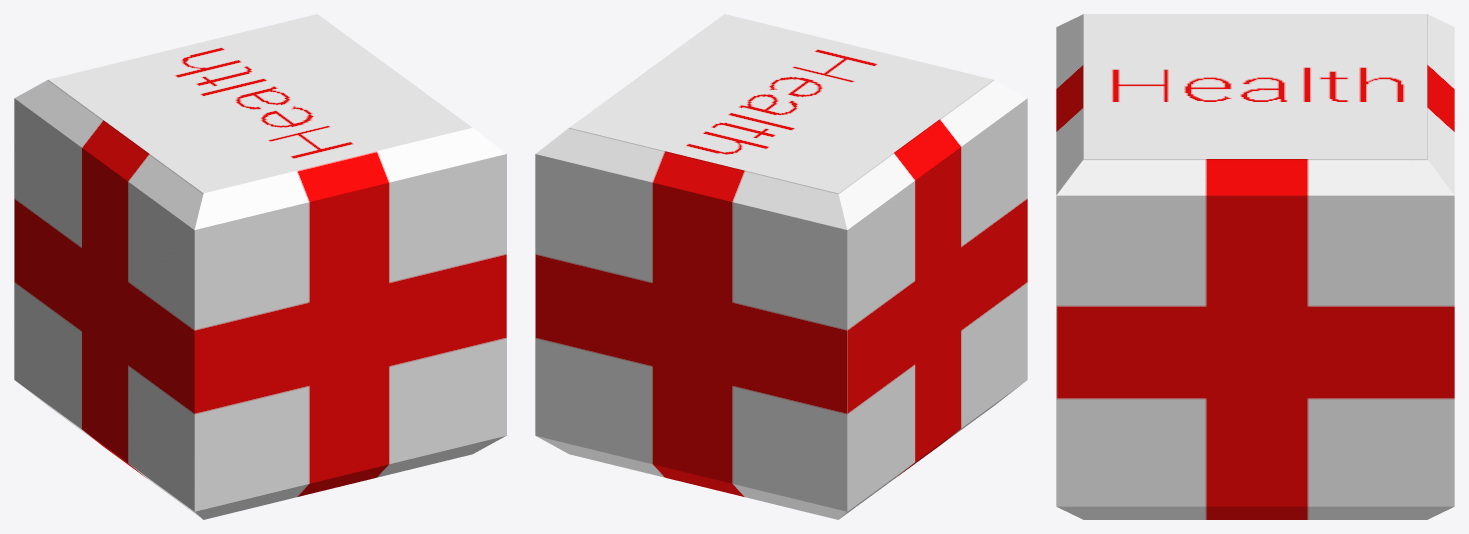
Rendered from MedicCrate.fbx.
The picture shows the model from 3 angles, left to right: view 1: azimuth 30°, elevation 25°; view 2: azimuth 150°, elevation 25°; view 3: azimuth 270°, elevation 25°; orthographic projection. The views are drawn at different scales.
Visible parts, largest first — view 1: MedicCrate; view 2: MedicCrate; view 3: MedicCrate.
Boxes of the visible parts, bbox=[...] form: MedicCrate: bbox=[14, 14, 506, 519]; MedicCrate: bbox=[535, 14, 1027, 519]; MedicCrate: bbox=[1056, 14, 1454, 519].
Size of the model in its own units: 200 by 200 by 200.
